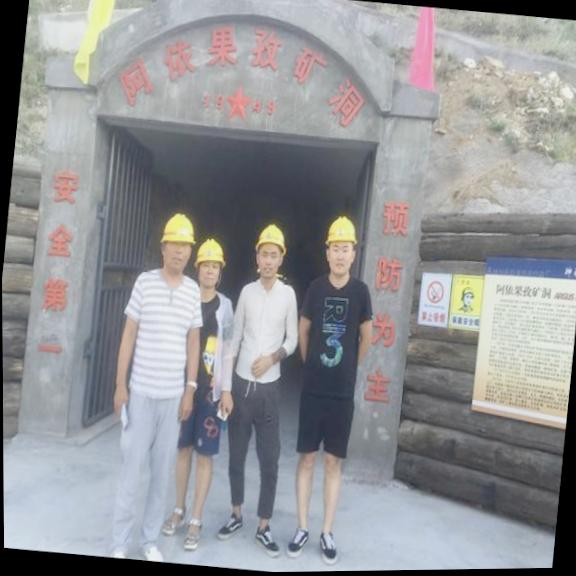no_safety_vest: (119, 265, 205, 402), (298, 280, 371, 395), (233, 278, 292, 384), (190, 299, 233, 400)
